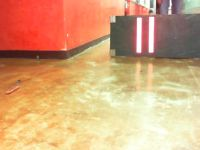switch: (135, 17, 143, 53), (148, 17, 155, 54)
